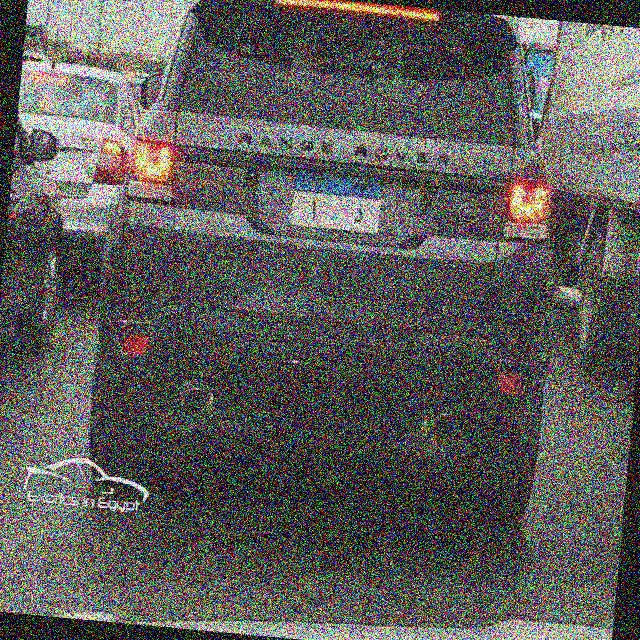License Plate: (287, 167, 386, 238)
